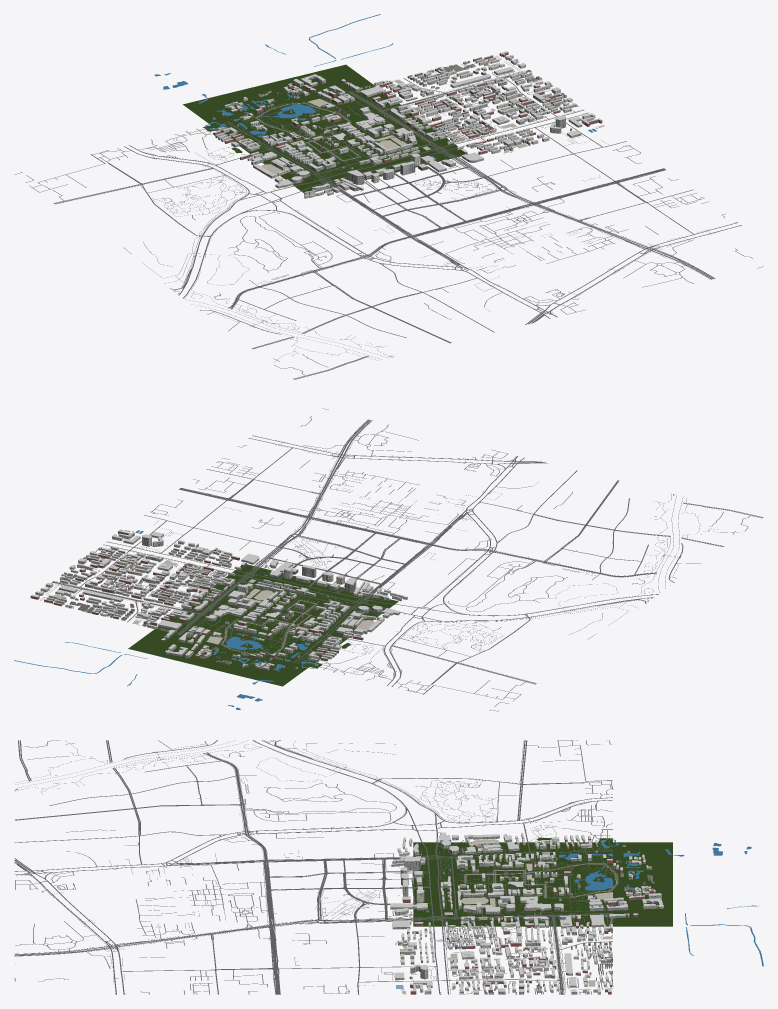
The model's file is beida-campus.glb.
The picture shows the model from 3 angles, top to bottom: view 1: azimuth 30°, elevation 25°; view 2: azimuth 150°, elevation 25°; view 3: azimuth 270°, elevation 25°; orthographic projection. The views are drawn at different scales.
Parts seen in each view (by area): view 1: street, ground, trim, wall0, wall2, green, wall1, wall3, water, roof, paved; view 2: street, ground, trim, wall0, wall2, green, wall1, wall3, roof, water, paved; view 3: street, ground, trim, wall0, wall2, green, roof, wall1, water, wall3, paved, tree.
Part boxes in pixels (<box>): street: <box>14,56,763,379</box>; ground: <box>183,64,467,193</box>; trim: <box>214,51,601,196</box>; wall0: <box>215,56,595,198</box>; wall2: <box>224,69,582,191</box>; green: <box>203,95,447,183</box>; wall1: <box>213,52,602,170</box>; wall3: <box>212,59,572,190</box>; water: <box>154,14,596,157</box>; roof: <box>212,54,586,193</box>; paved: <box>261,63,604,173</box>; street: <box>40,408,763,711</box>; ground: <box>128,564,398,686</box>; trim: <box>31,529,407,668</box>; wall0: <box>35,534,407,667</box>; wall2: <box>59,534,400,670</box>; green: <box>153,569,373,668</box>; wall1: <box>30,530,363,666</box>; wall3: <box>48,544,376,669</box>; roof: <box>33,531,407,668</box>; water: <box>14,530,317,709</box>; paved: <box>53,530,374,644</box>; street: <box>14,740,613,994</box>; ground: <box>413,842,672,926</box>; trim: <box>390,832,663,992</box>; wall0: <box>397,835,651,994</box>; wall2: <box>390,833,663,993</box>; green: <box>412,837,612,916</box>; roof: <box>390,836,661,993</box>; wall1: <box>402,834,655,994</box>; water: <box>396,839,763,988</box>; wall3: <box>400,839,655,994</box>; paved: <box>398,839,612,994</box>; tree: <box>417,836,618,915</box>.
Size of the model in its own units: 3812 by 70.44 by 4740.
Materials: 15 (9 with a texture image).
